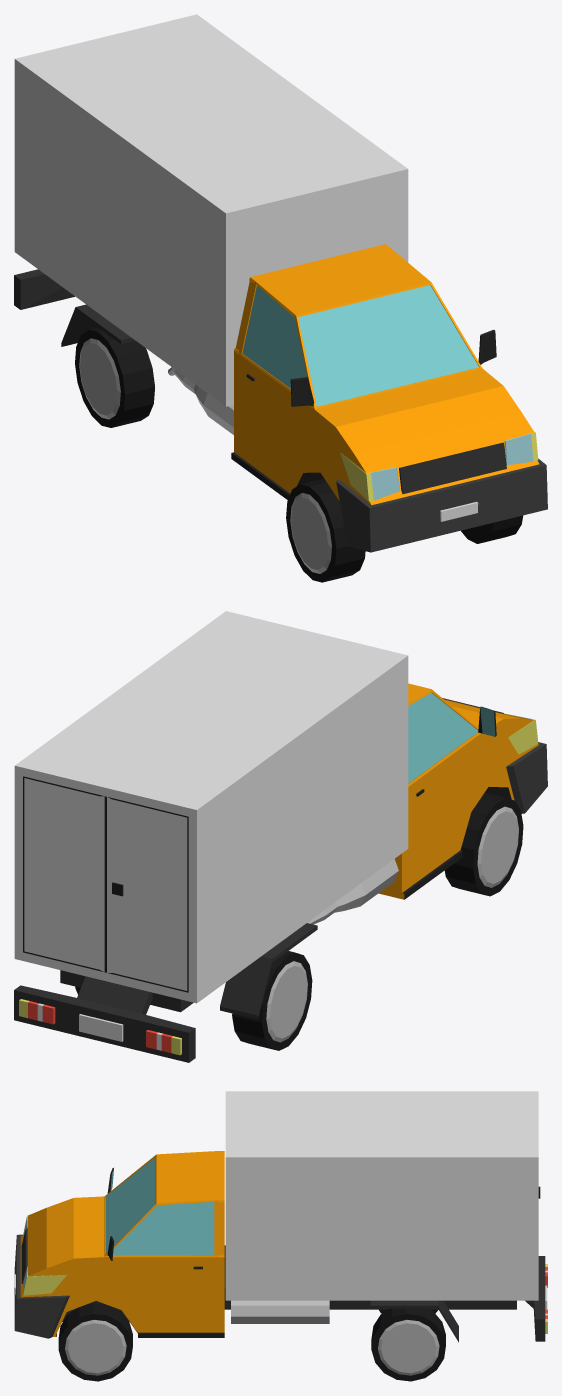
Rendered from lp_car8.fbx.
The picture shows the model from 3 angles, top to bottom: view 1: azimuth 30°, elevation 25°; view 2: azimuth 150°, elevation 25°; view 3: azimuth 270°, elevation 25°; orthographic projection. The views are drawn at different scales.
Visible parts, largest first — view 1: truckcarg, Car, wheel_BR, wheel_FR, truckback, truckscap, wheel_FL; view 2: truckcarg, Car, truckback, wheel_FR, wheel_BR, truckscap; view 3: truckcarg, Car, wheel_FL, wheel_BL, truckback, truckfuel.
Boxes of the visible parts, x1=… form: truckcarg: x1=14, y1=14, x2=408, y2=406; Car: x1=231, y1=244, x2=547, y2=552; wheel_BR: x1=75, y1=327, x2=154, y2=427; wheel_FR: x1=286, y1=478, x2=365, y2=582; truckback: x1=14, y1=269, x2=135, y2=346; truckscap: x1=168, y1=367, x2=233, y2=434; wheel_FL: x1=461, y1=515, x2=523, y2=543; truckcarg: x1=14, y1=611, x2=408, y2=1003; Car: x1=378, y1=683, x2=547, y2=899; truckback: x1=14, y1=923, x2=317, y2=1062; wheel_FR: x1=444, y1=792, x2=523, y2=896; wheel_BR: x1=232, y1=951, x2=312, y2=1050; truckscap: x1=307, y1=859, x2=398, y2=924; truckcarg: x1=225, y1=1091, x2=540, y2=1300; Car: x1=14, y1=1151, x2=224, y2=1338; wheel_FL: x1=58, y1=1303, x2=132, y2=1381; wheel_BL: x1=371, y1=1308, x2=445, y2=1381; truckback: x1=224, y1=1245, x2=547, y2=1342; truckfuel: x1=231, y1=1300, x2=329, y2=1323.
Bounding box in the file's own units: 243 × 342 × 743.
